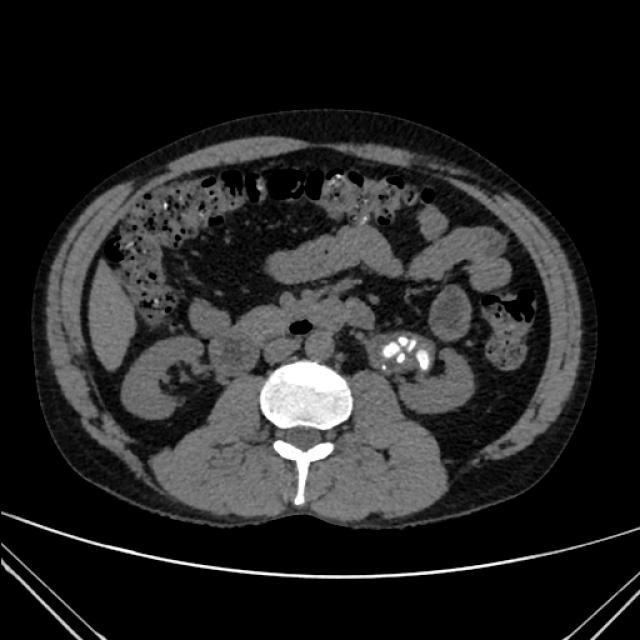kidneystone: (416, 350, 430, 371), (382, 342, 399, 358), (399, 336, 408, 346), (409, 339, 414, 351), (399, 352, 403, 362)
